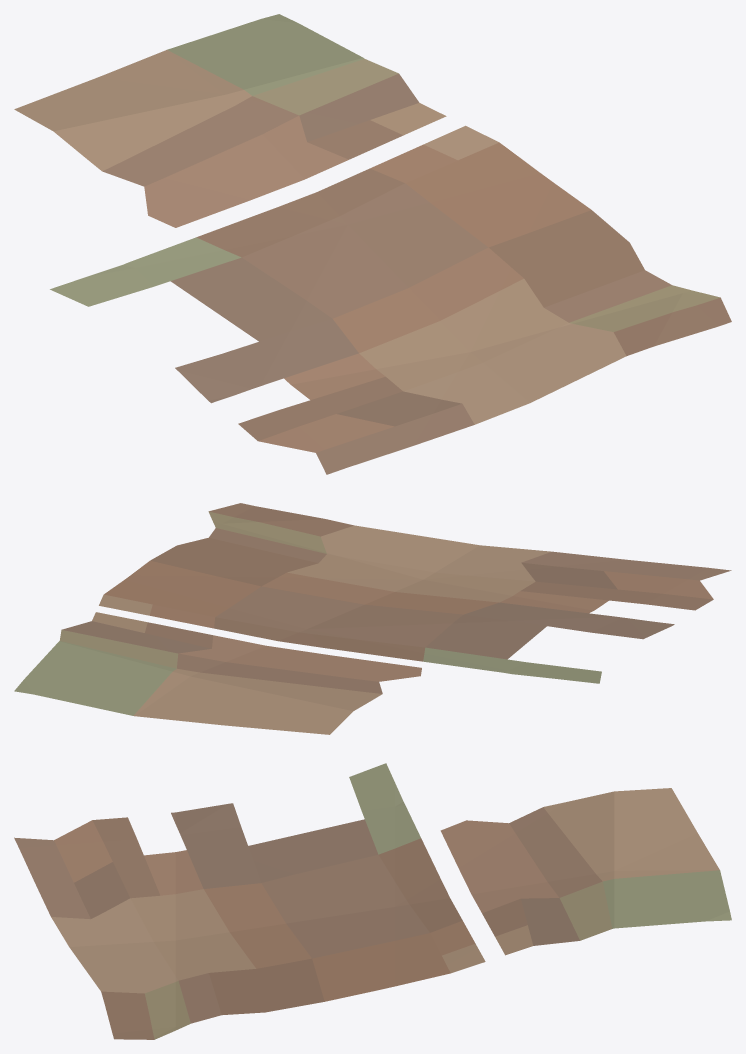
File: farm_-36_-35_soil.glb
The picture shows the model from 3 angles, top to bottom: view 1: azimuth 30°, elevation 25°; view 2: azimuth 150°, elevation 25°; view 3: azimuth 270°, elevation 25°; orthographic projection. The views are drawn at different scales.
Parts seen in each view (by area): view 1: geometry_0; view 2: geometry_0; view 3: geometry_0.
Boxes of the visible parts, left/top/right/bottom form: geometry_0: left=14, top=14, right=731, bottom=474; geometry_0: left=14, top=503, right=731, bottom=734; geometry_0: left=14, top=763, right=731, bottom=1039.
Bounding box in the file's own units: 204 × 32.64 × 262.
